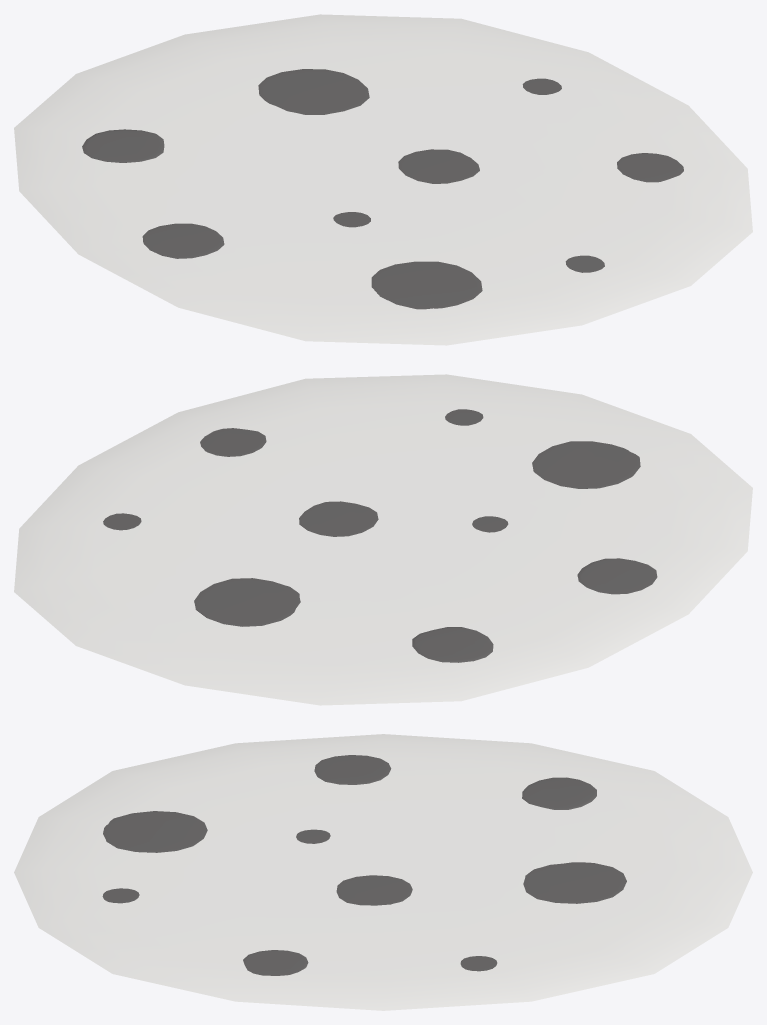
File: Carpet_9.glb
3 views of the same model, one above another, from view 1: azimuth 30°, elevation 25°; view 2: azimuth 150°, elevation 25°; view 3: azimuth 270°, elevation 25° (orthographic). The views are drawn at different scales.
Parts seen in each view (by area): view 1: Carpet_9; view 2: Carpet_9; view 3: Carpet_9.
Part boxes in pixels (bbox=[...]): Carpet_9: bbox=[14, 14, 752, 345]; Carpet_9: bbox=[14, 374, 752, 705]; Carpet_9: bbox=[14, 734, 752, 1010].
Size of the model in its own units: 2.56 by 0.0207 by 2.89.
Materials: 1 (1 with a texture image).
